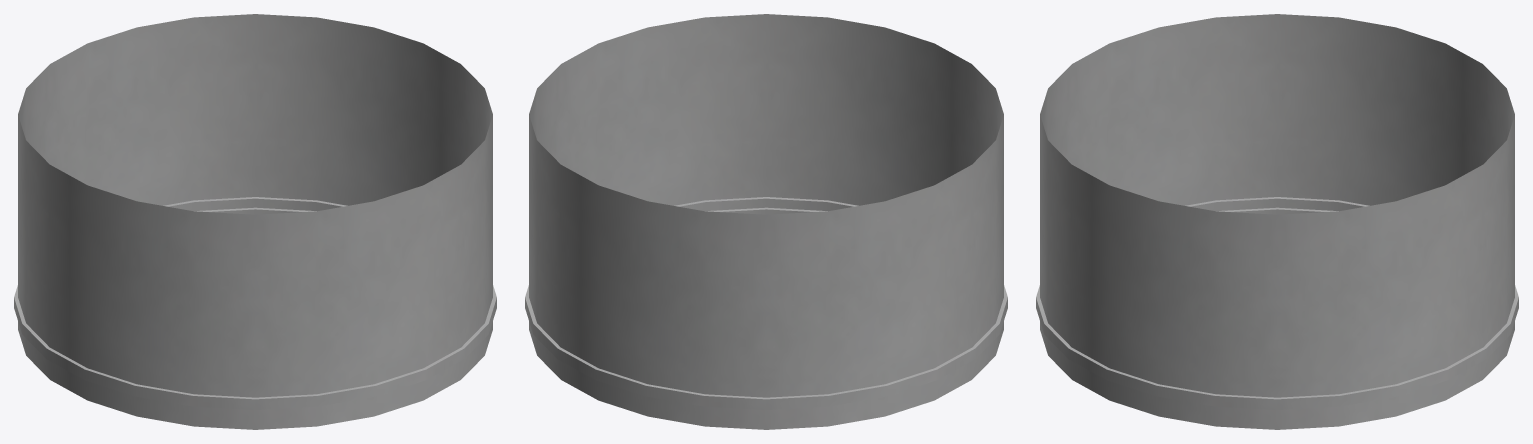
The model's file is us small short.obj.
3 views of the same model, side by side, from view 1: azimuth 30°, elevation 25°; view 2: azimuth 150°, elevation 25°; view 3: azimuth 270°, elevation 25° (orthographic).
Parts seen in each view (by area): view 1: small short; view 2: small short; view 3: small short.
Boxes of the visible parts, left/top/right/bottom form: small short: left=14, top=14, right=496, bottom=429; small short: left=525, top=14, right=1007, bottom=429; small short: left=1036, top=14, right=1518, bottom=429.
Size of the model in its own units: 1.52 by 0.75 by 1.52.
